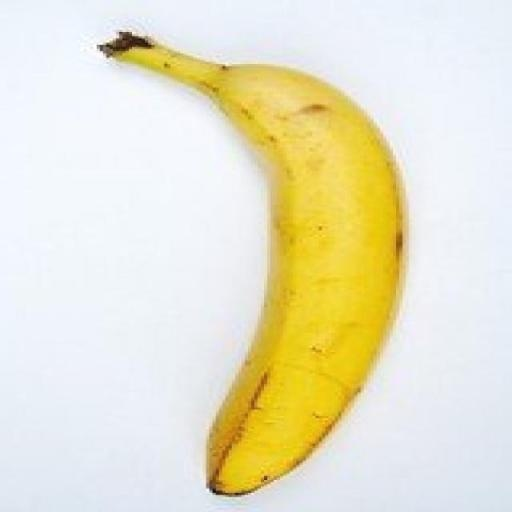fruit: (100, 33, 403, 494)
